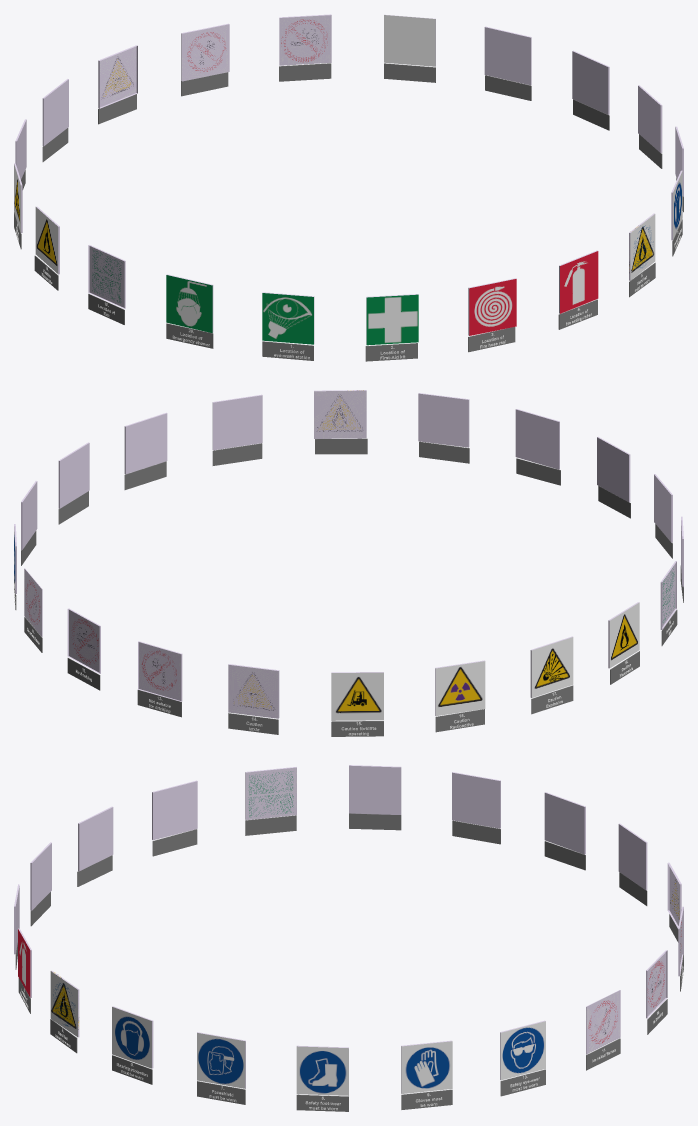
The model's file is señales12.fbx.
3 views of the same model, one above another, from view 1: azimuth 30°, elevation 25°; view 2: azimuth 150°, elevation 25°; view 3: azimuth 270°, elevation 25° (orthographic).
Visible parts, largest first — view 1: Material2.002, Material2.019, Material2.017, Material2.039, Material2.036, Material2.004, Material2.021, Material2.015, Material2.023, Material2.034, Material2, Material2.005 (+21 smaller); view 2: Material2.025, Material2.007, Material2.024, Material2.028, Material2.005, Material2.009, Material2.022, Material2.030, Material2.011, Material2.004, Material2.020, Material2.032 (+21 smaller); view 3: Material2.014, Material2.031, Material2, Material2.033, Material2.012, Material2.029, Material2.016, Material2.035, Material2.010, Material2.027, Material2.018, Material2.037 (+19 smaller).
Boxes of the visible parts, left/top/right/bottom form: Material2.002: left=279, top=15, right=331, bottom=65; Material2.019: left=366, top=294, right=418, bottom=345; Material2.017: left=262, top=293, right=313, bottom=344; Material2.039: left=384, top=15, right=435, bottom=66; Material2.036: left=484, top=26, right=531, bottom=85; Material2.004: left=182, top=24, right=229, bottom=81; Material2.021: left=469, top=279, right=516, bottom=335; Material2.015: left=166, top=275, right=212, bottom=332; Material2.023: left=560, top=251, right=598, bottom=313; Material2.034: left=572, top=50, right=609, bottom=114; Material2: left=88, top=245, right=125, bottom=308; Material2.005: left=99, top=46, right=136, bottom=107; Material2.025: left=314, top=390, right=366, bottom=438; Material2.007: left=331, top=672, right=383, bottom=720; Material2.024: left=418, top=393, right=469, bottom=447; Material2.028: left=212, top=394, right=262, bottom=450; Material2.005: left=228, top=664, right=278, bottom=718; Material2.009: left=436, top=661, right=485, bottom=715; Material2.022: left=515, top=409, right=559, bottom=469; Material2.030: left=124, top=412, right=167, bottom=474; Material2.011: left=531, top=637, right=573, bottom=697; Material2.004: left=139, top=642, right=181, bottom=700; Material2.020: left=597, top=436, right=630, bottom=502; Material2.032: left=58, top=442, right=89, bottom=508; Material2.014: left=349, top=765, right=401, bottom=814; Material2.031: left=296, top=1046, right=348, bottom=1095; Material2: left=245, top=767, right=296, bottom=820; Material2.033: left=401, top=1041, right=452, bottom=1093; Material2.012: left=452, top=772, right=500, bottom=828; Material2.029: left=197, top=1033, right=245, bottom=1088; Material2.016: left=152, top=780, right=197, bottom=840; Material2.035: left=501, top=1021, right=545, bottom=1080; Material2.010: left=544, top=792, right=585, bottom=854; Material2.027: left=112, top=1007, right=151, bottom=1068; Material2.018: left=78, top=806, right=113, bottom=871; Material2.037: left=586, top=990, right=620, bottom=1054.
Size of the model in its own units: 7881 by 831 by 7874.
